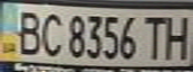3: (84, 11, 106, 60)
5: (103, 12, 124, 61)
6: (118, 12, 142, 61)
8: (63, 10, 87, 58)
B: (9, 7, 45, 56)
C: (36, 9, 66, 57)
H: (160, 12, 193, 61)
T: (139, 12, 169, 61)
